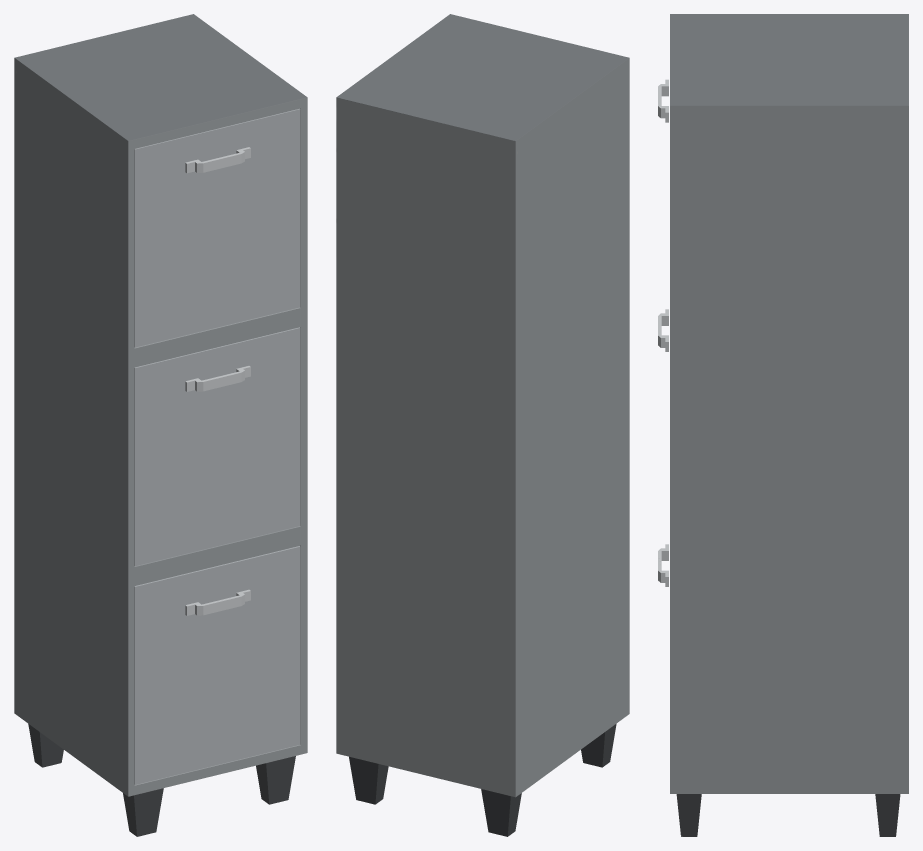
Rendered from Big_Locker_Grey.fbx.
3 views of the same model, side by side, from view 1: azimuth 30°, elevation 25°; view 2: azimuth 150°, elevation 25°; view 3: azimuth 270°, elevation 25° (orthographic). The views are drawn at different scales.
Visible parts, largest first — view 1: Gabinet.002; view 2: Gabinet.002; view 3: Gabinet.002.
Part boxes in pixels (left/top/right/bottom): Gabinet.002: left=14, top=14, right=307, bottom=836; Gabinet.002: left=336, top=14, right=629, bottom=836; Gabinet.002: left=658, top=14, right=908, bottom=836.
Bounding box in the file's own units: 40 × 150 × 46.17.
